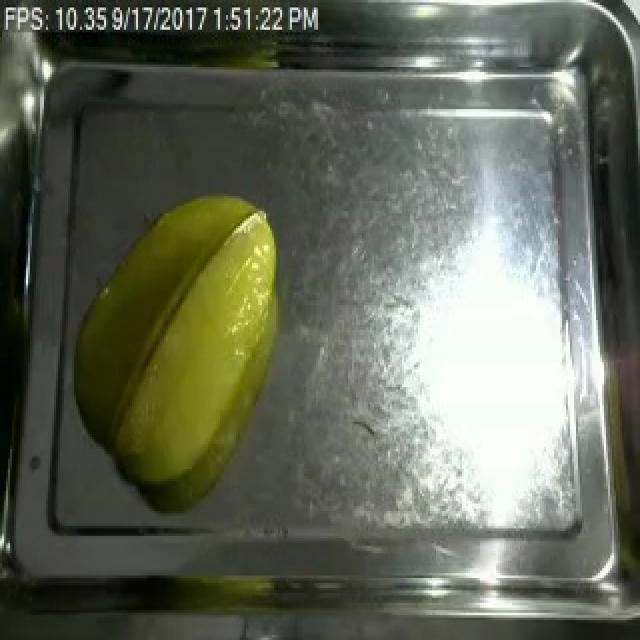fruit: (98, 179, 290, 506)
